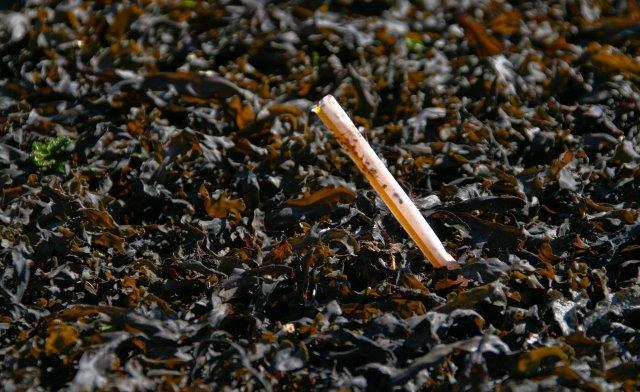sedotan: (315, 95, 453, 266)
